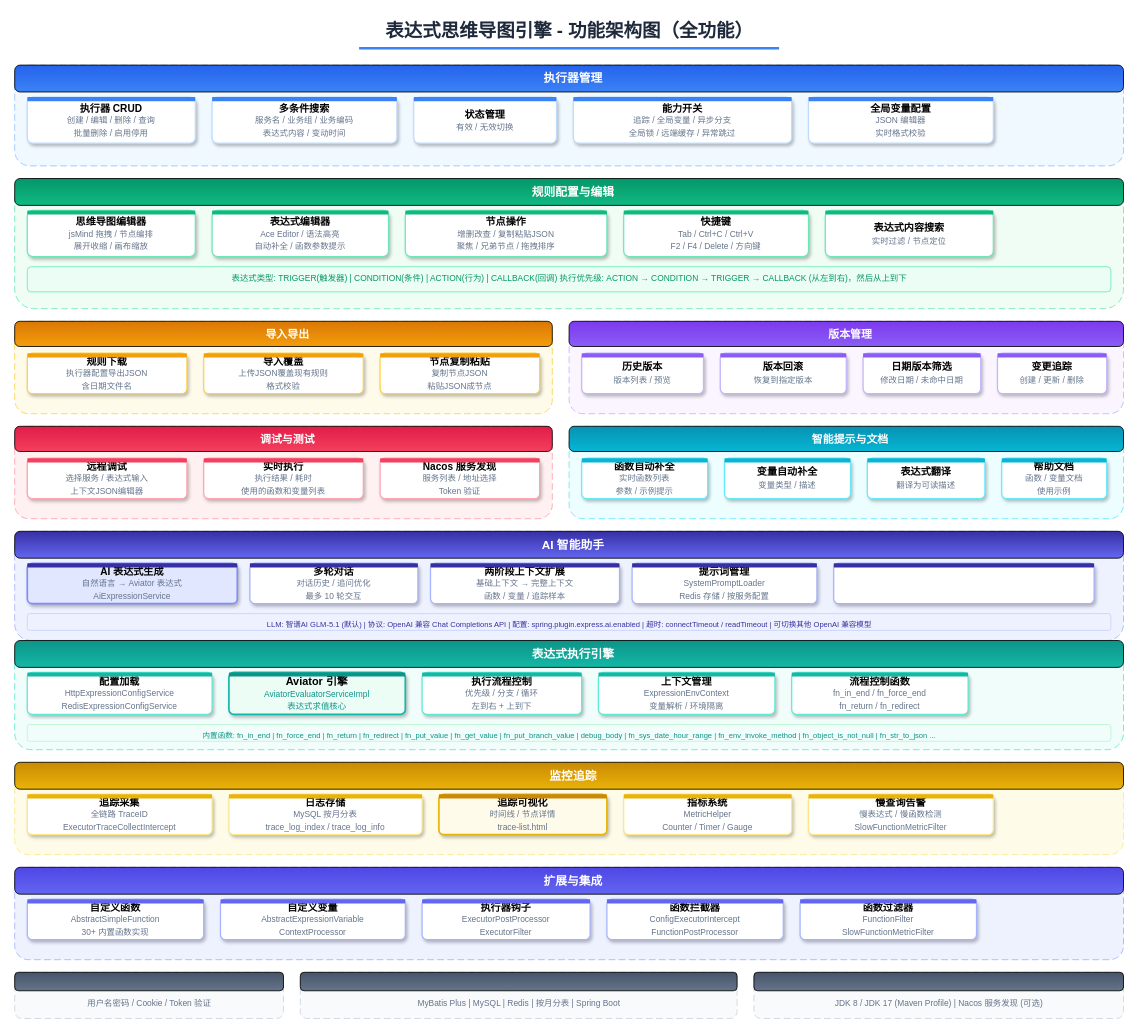
Image size: 1138x1033. Some labels were removed from this diagram. Here are the shapes that lost their labels. From the top down, the centre of each, then its label:
At point 964,584: "思维链与表达式提取 reasoning_content 可视化 表达式一键应用到节点".
At point 149,981: "登录鉴权".
At point 518,981: "数据访问层".
At point 938,981: "多 JDK 支持 + Nacos".
